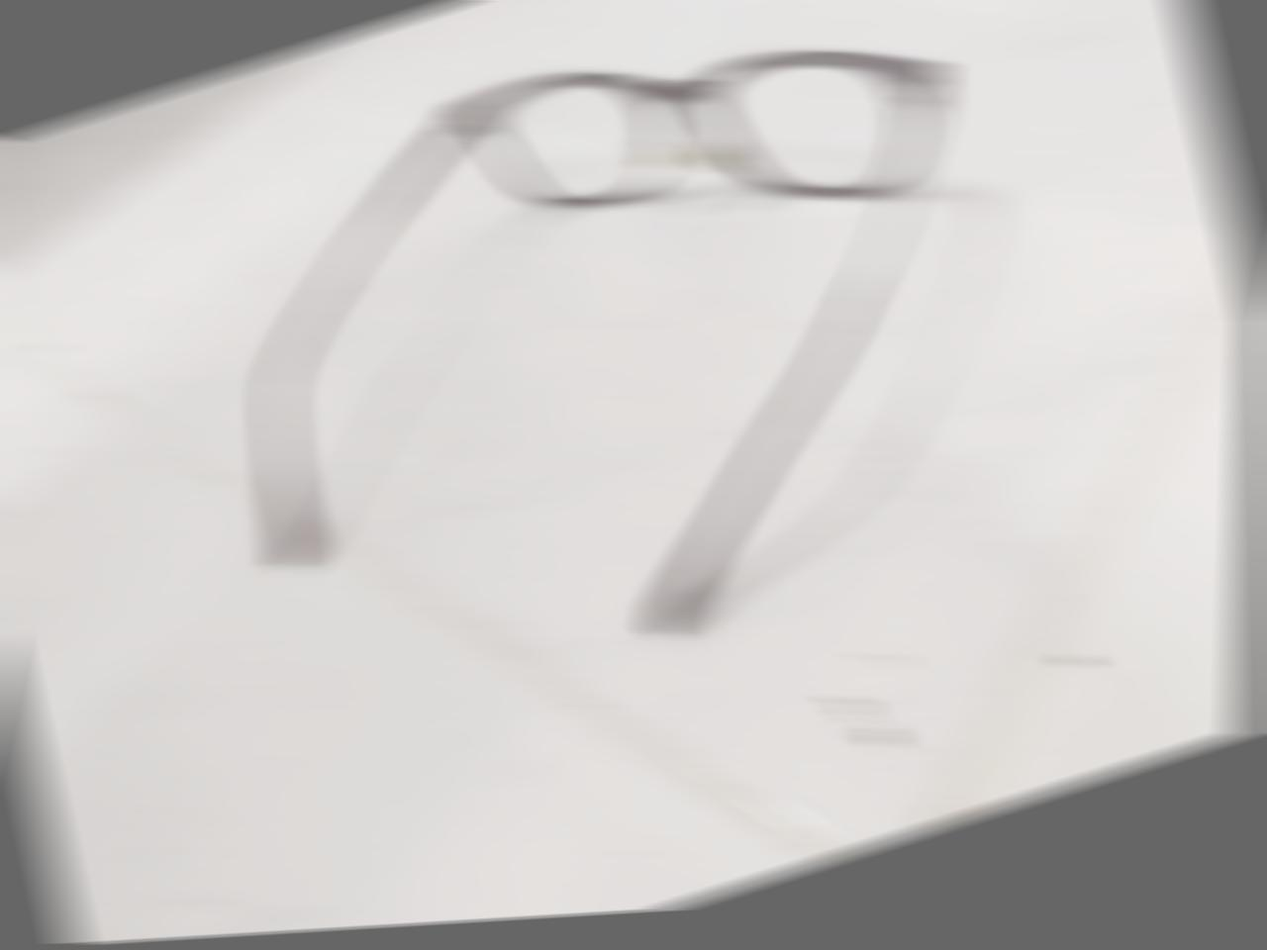glasses: (157, 0, 1071, 760)
